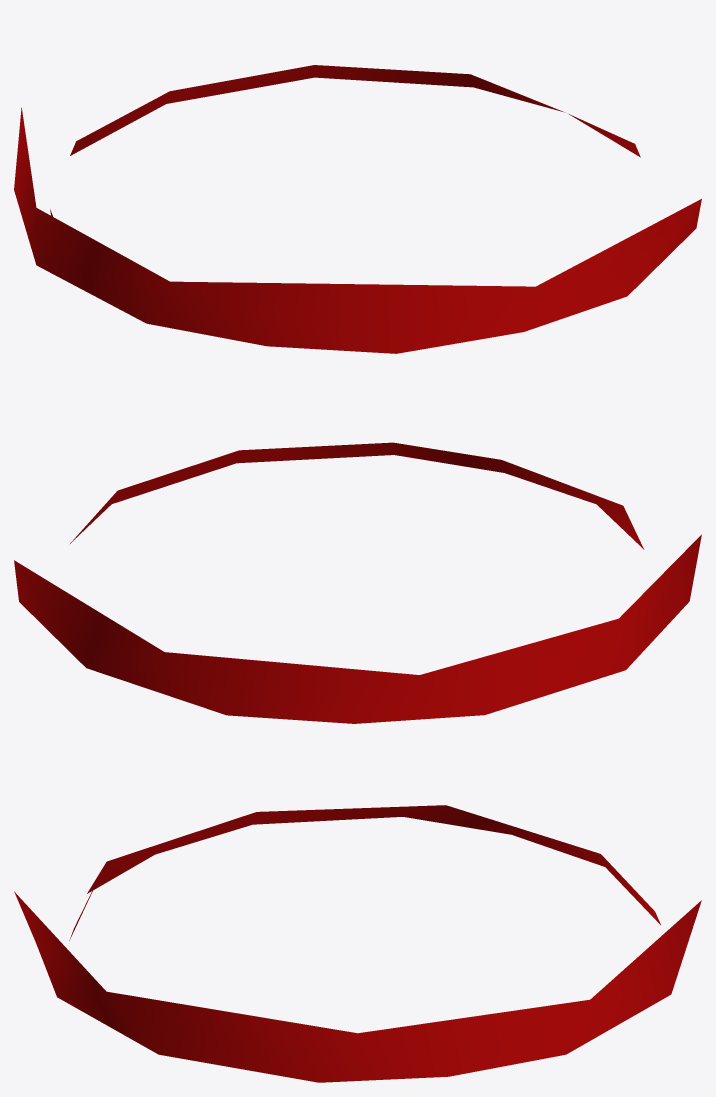
The picture shows the model from 3 angles, top to bottom: view 1: azimuth 30°, elevation 25°; view 2: azimuth 150°, elevation 25°; view 3: azimuth 270°, elevation 25°; orthographic projection. The views are drawn at different scales.
Visible parts, largest first — view 1: Mesh; view 2: Mesh; view 3: Mesh.
Part boxes in pixels (x1,y1,x2,y2): Mesh: [14, 65, 701, 353]; Mesh: [14, 442, 701, 723]; Mesh: [14, 805, 701, 1082].
Size of the model in its own units: 0.408 by 0.036 by 0.4195.
